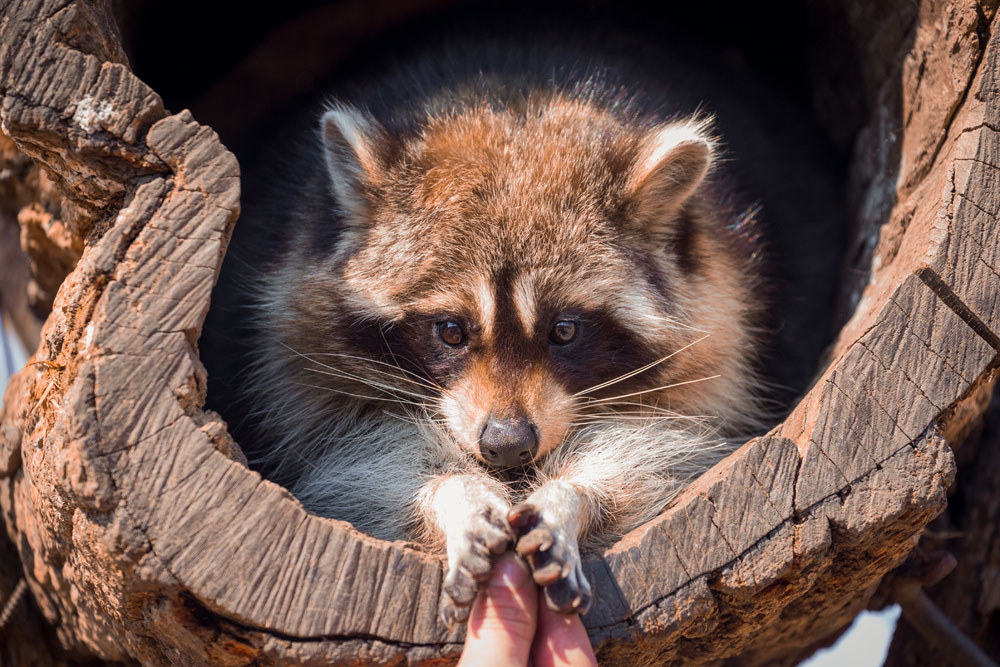raccoon: (230, 33, 792, 621)
